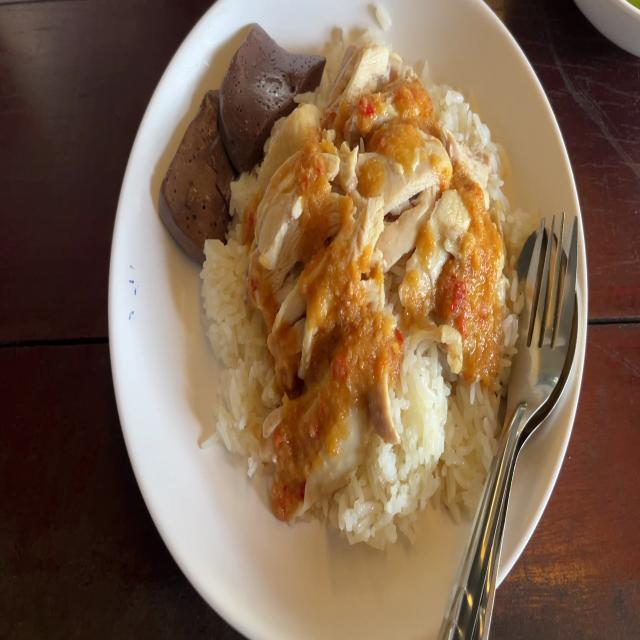chicken_rice: (260, 62, 500, 446)
noodle: (218, 16, 318, 151), (159, 80, 235, 233)
